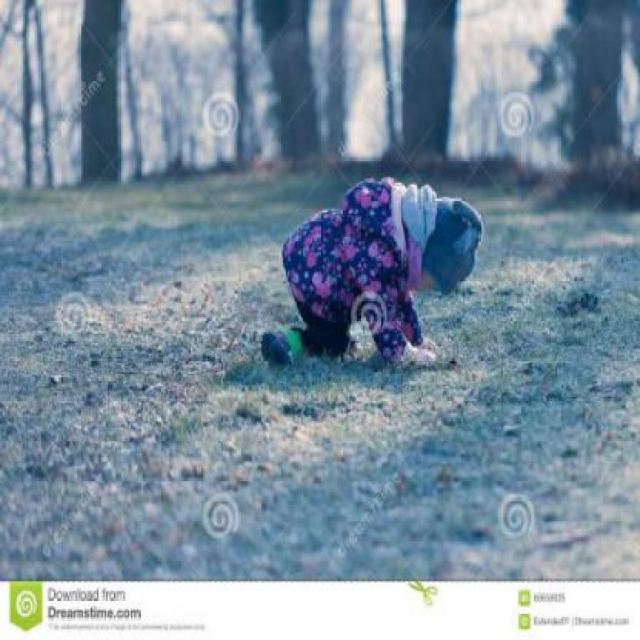fall: (253, 167, 490, 379)
